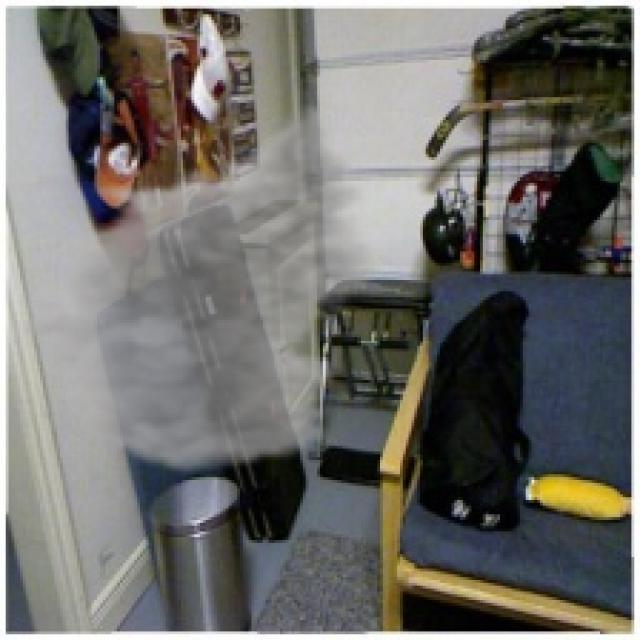Smoke: (9, 100, 392, 477)
